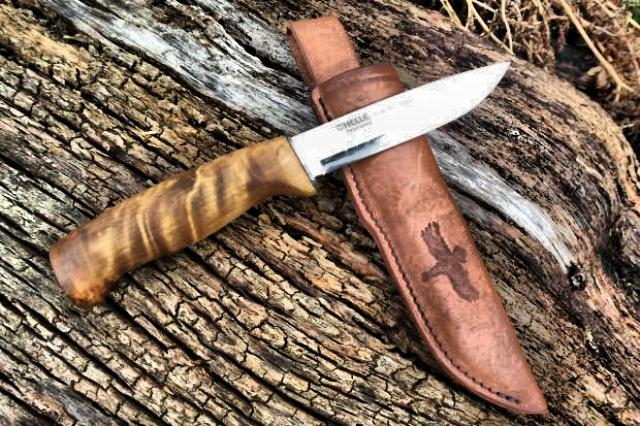knife: (243, 50, 522, 192)
